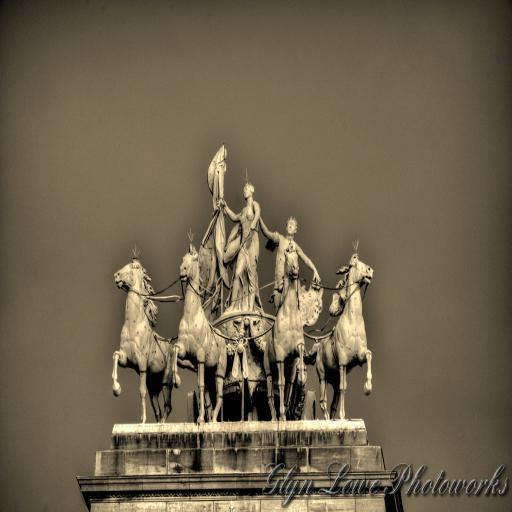horse: (111, 254, 195, 424), (304, 254, 376, 417), (170, 248, 230, 424), (264, 249, 306, 423)
